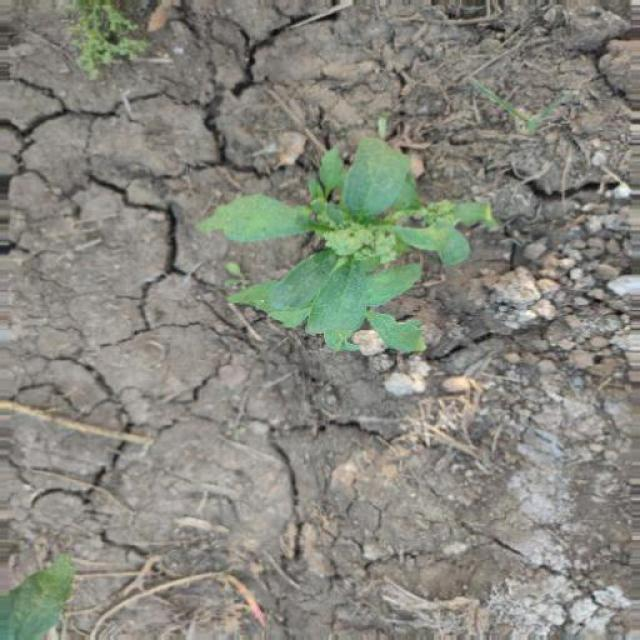weed: (228, 135, 472, 354)
